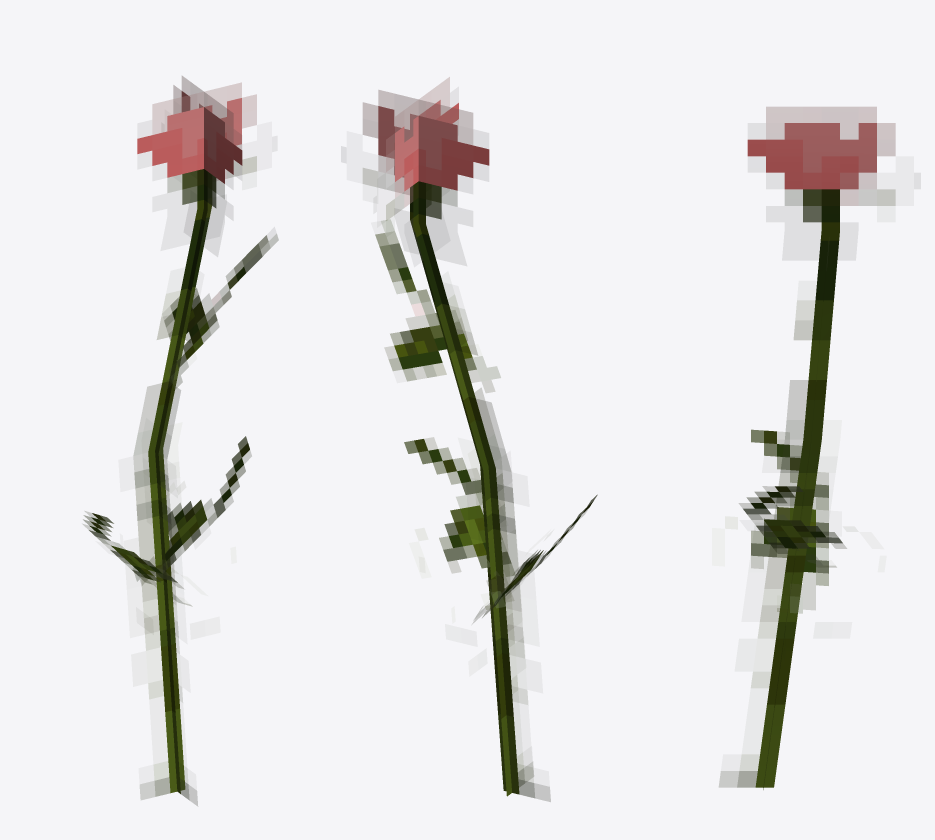
The model's file is plantflr_1.glb.
3 renders of one model, left to right at view 1: azimuth 30°, elevation 25°; view 2: azimuth 150°, elevation 25°; view 3: azimuth 270°, elevation 25°, orthographic. The views are drawn at different scales.
Visible parts, largest first — view 1: plantflr_1; view 2: plantflr_1; view 3: plantflr_1.
Part boxes in pixels (box(x1,y1,x2,y2)): plantflr_1: box(83, 76, 278, 805); plantflr_1: box(362, 77, 597, 801); plantflr_1: box(719, 107, 895, 789).
Size of the model in its own units: 0.6225 by 1.75 by 0.5401.
Materials: 1 (1 with a texture image).
